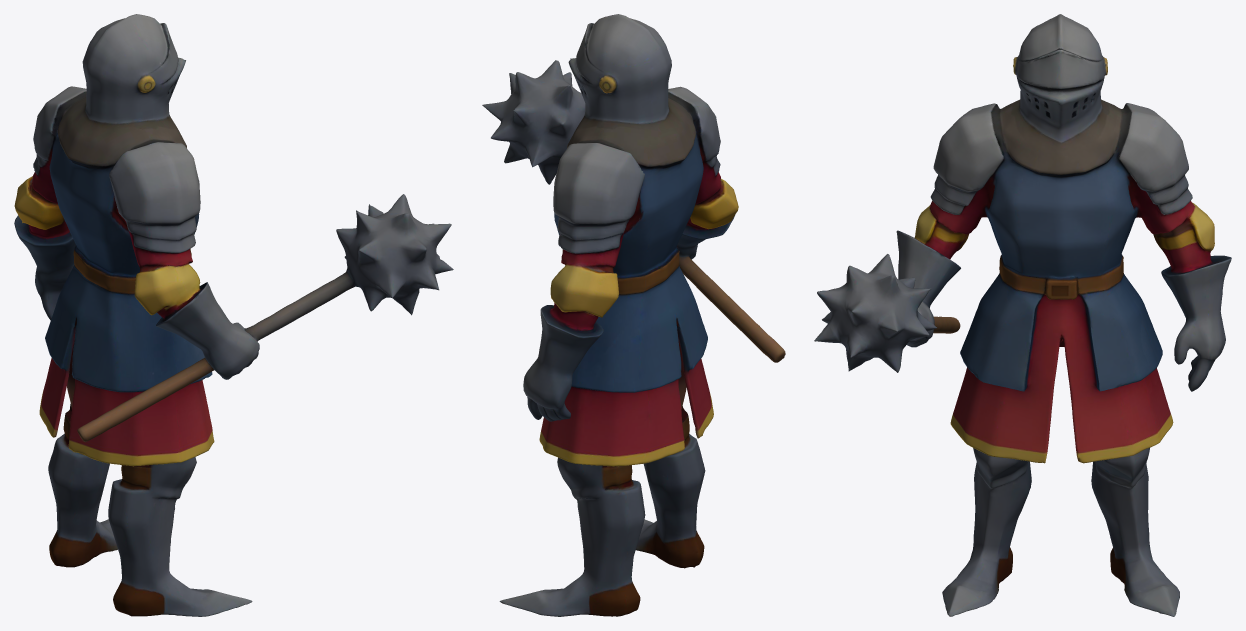
The model's file is knight mare.glb.
3 renders of one model, left to right at view 1: azimuth 30°, elevation 25°; view 2: azimuth 150°, elevation 25°; view 3: azimuth 270°, elevation 25°, orthographic.
Visible parts, largest first — view 1: tripo_node_68acd58a; view 2: tripo_node_68acd58a; view 3: tripo_node_68acd58a.
Boxes of the visible parts, x1=… form: tripo_node_68acd58a: x1=14, y1=14, x2=453, y2=616; tripo_node_68acd58a: x1=482, y1=14, x2=785, y2=616; tripo_node_68acd58a: x1=814, y1=14, x2=1231, y2=616.
Size of the model in its own units: 0.6108 by 0.9981 by 0.6669.
Materials: 1 (1 with a texture image).
